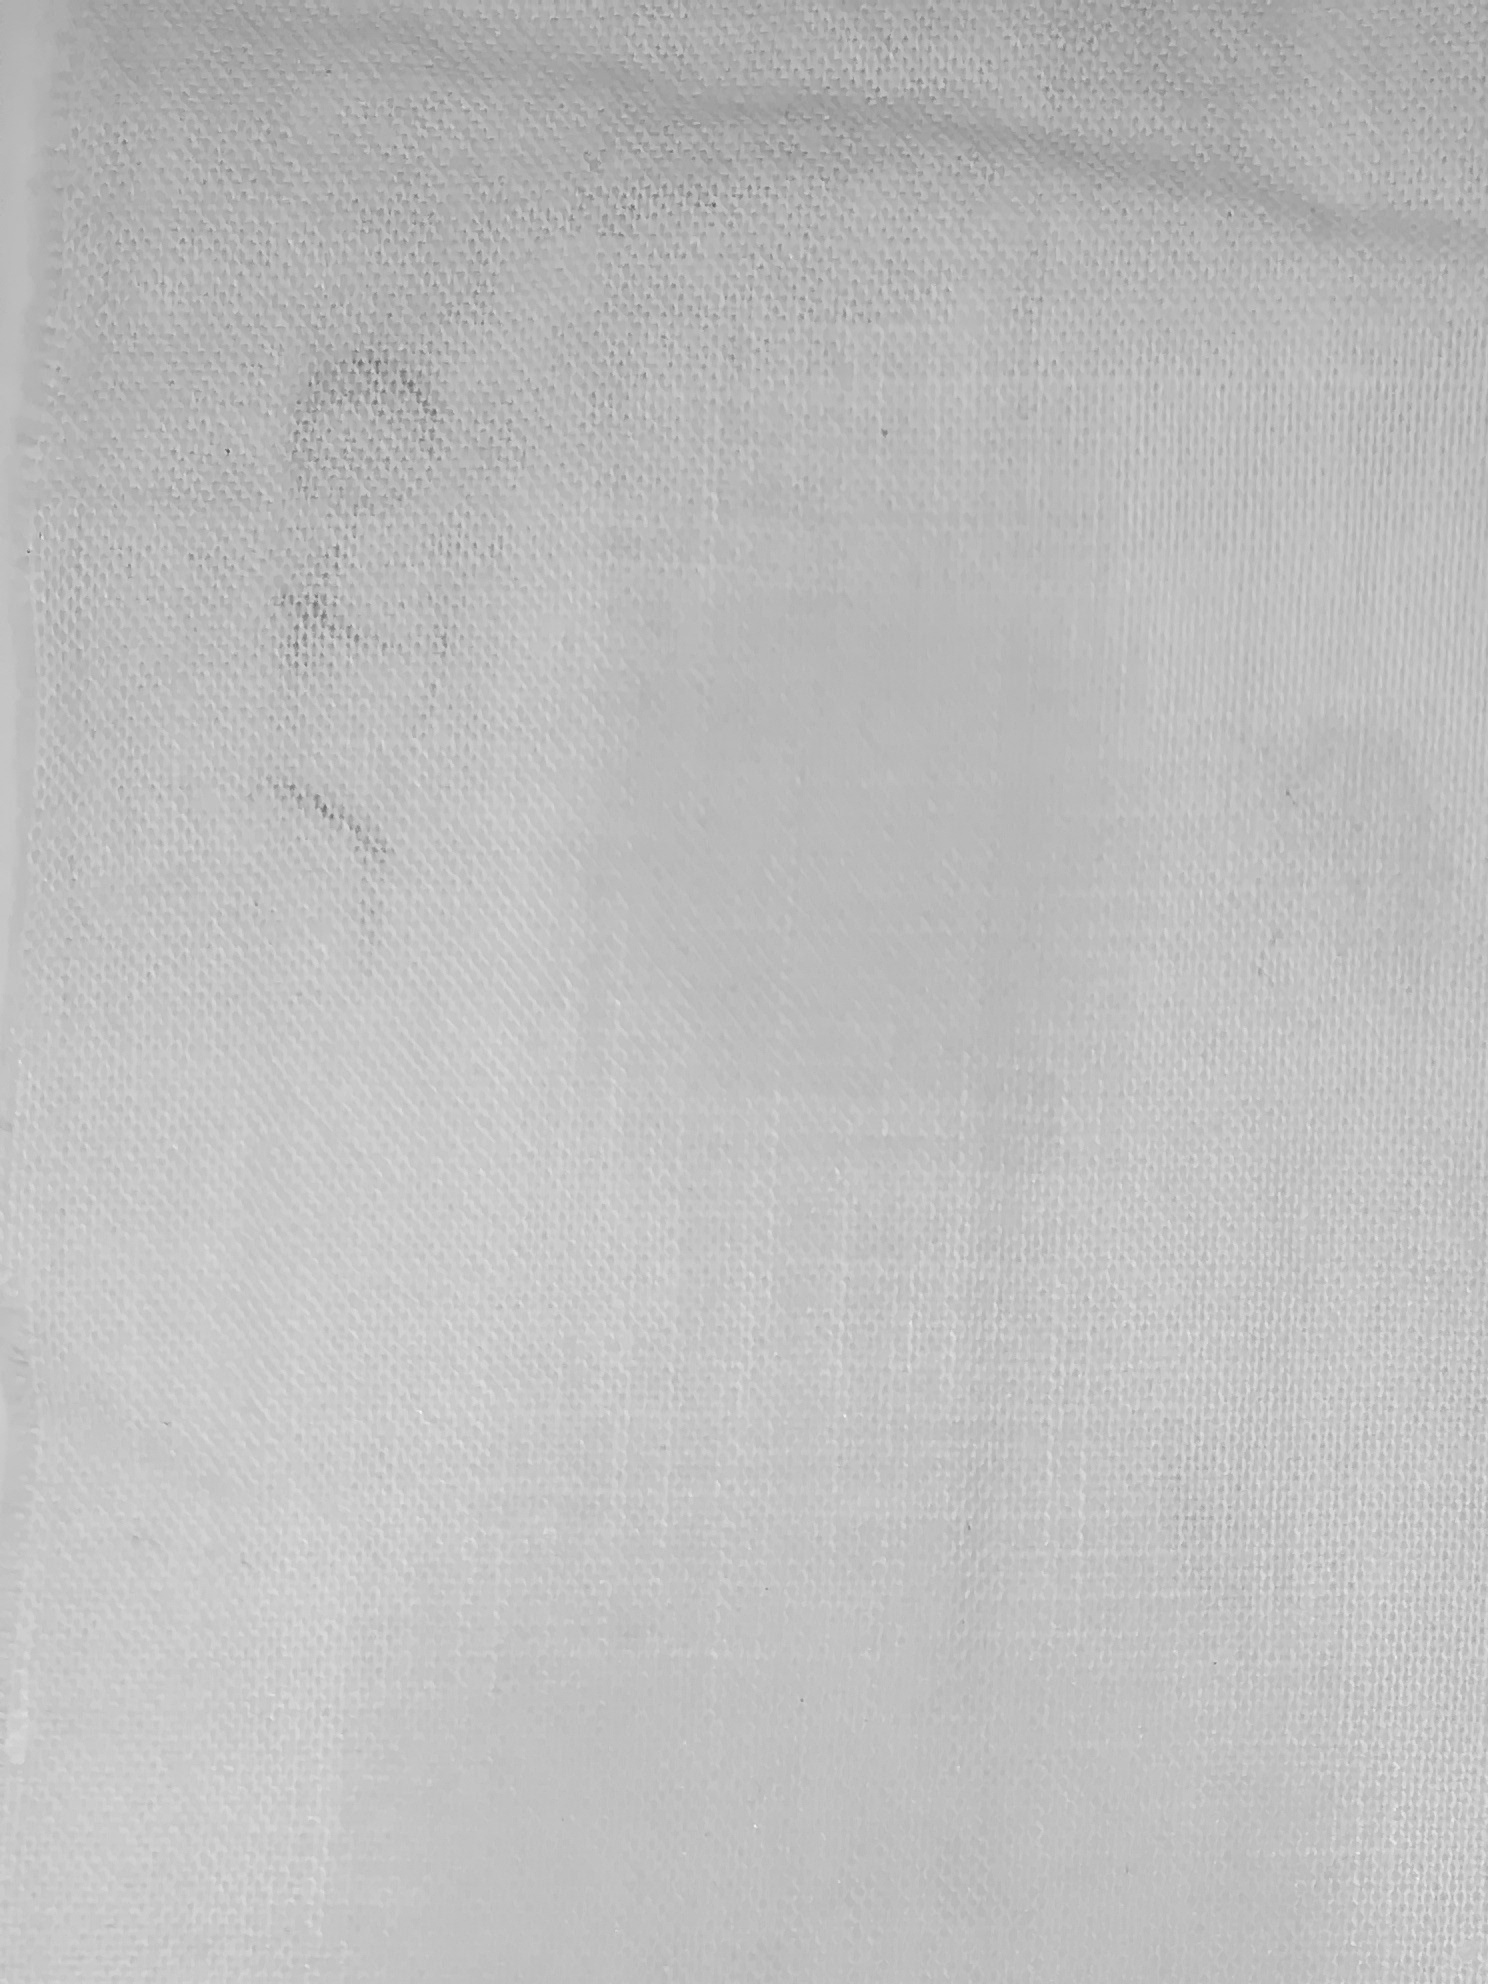Stain: (172, 284, 589, 526), (194, 720, 571, 961), (197, 531, 592, 698)
